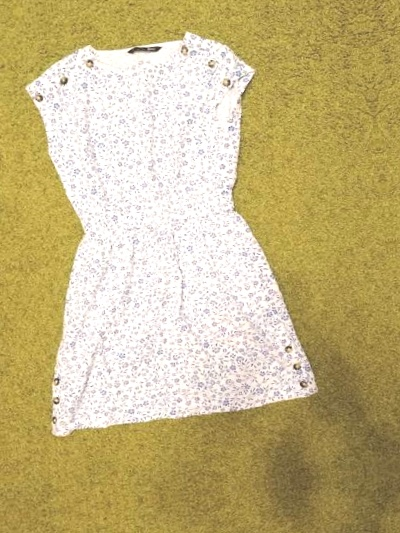Dress: (0, 19, 310, 460), (60, 531, 377, 533)
